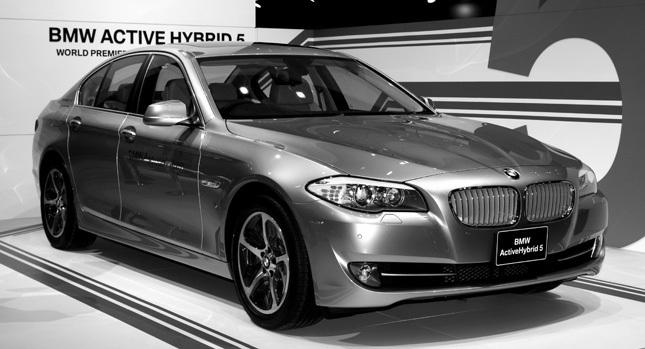car: (33, 40, 609, 323)
